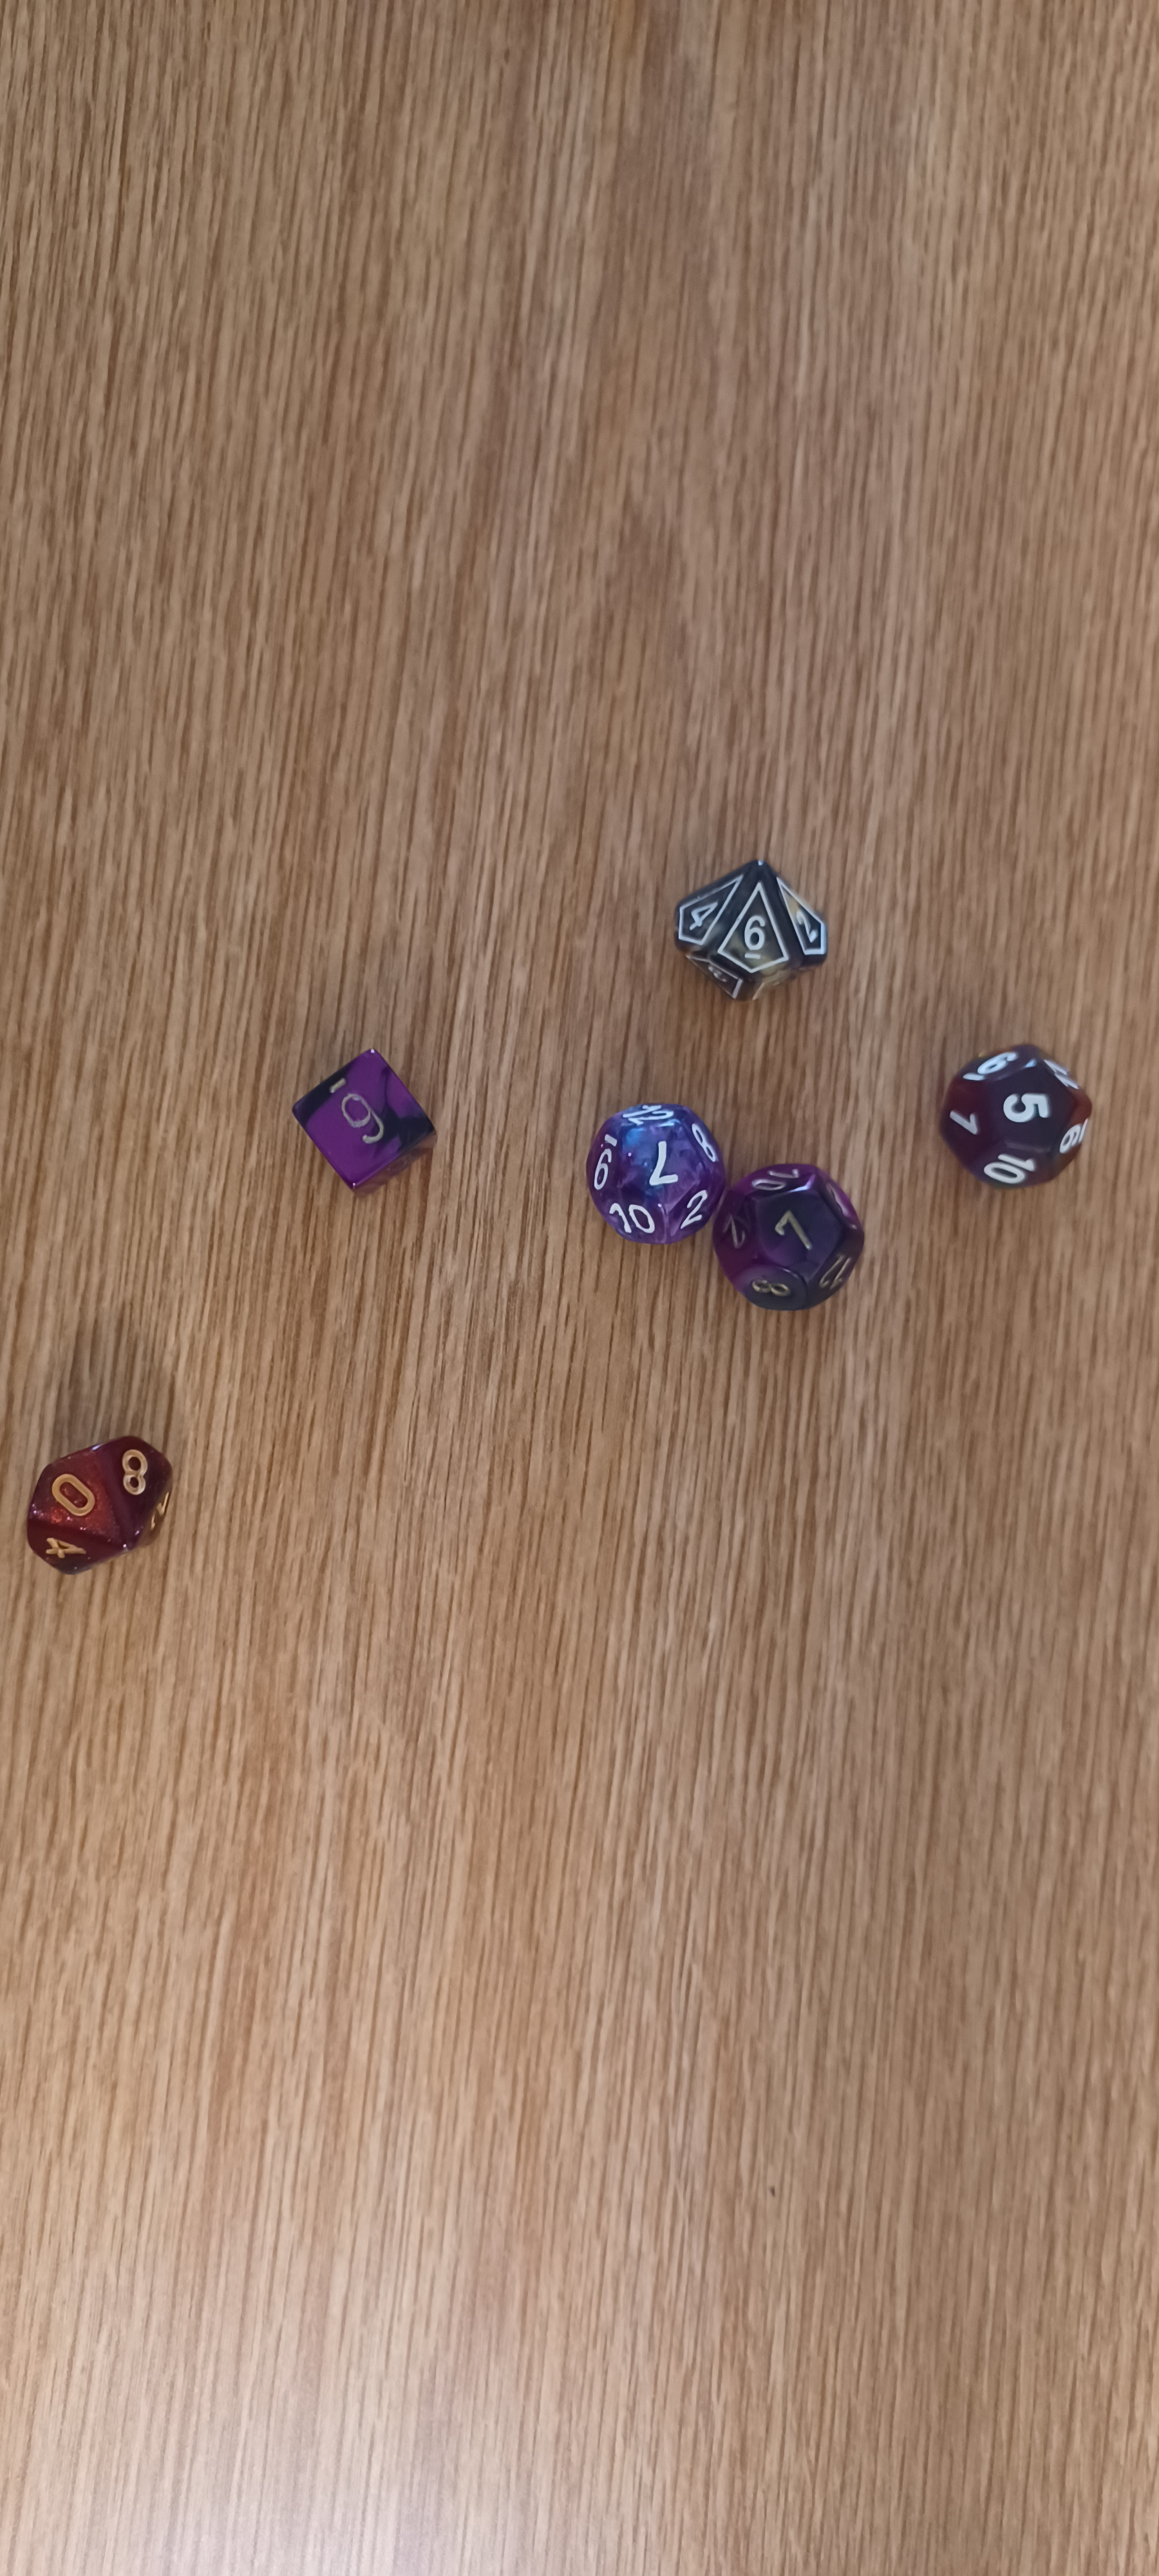five: (914, 1023, 1115, 1209)
seven: (712, 1142, 883, 1329), (561, 1074, 737, 1253)
six: (253, 1035, 471, 1214), (662, 831, 857, 1030)
zero: (10, 1424, 197, 1574)
